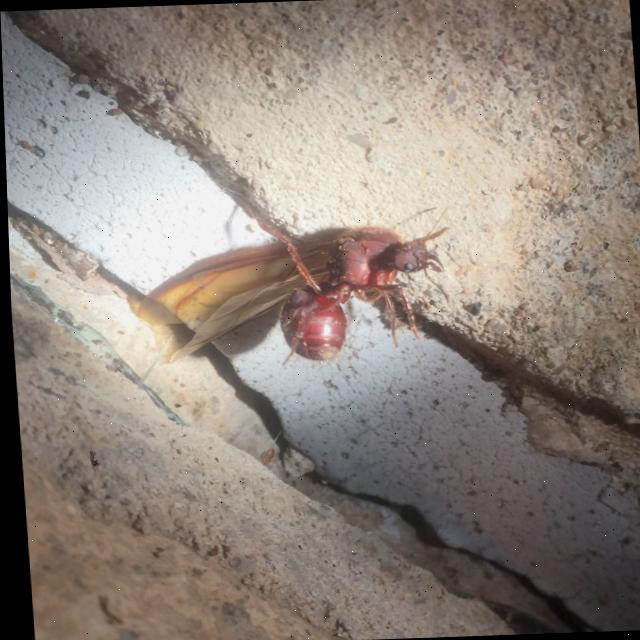Alive-Female-Alate: (124, 184, 458, 370)
